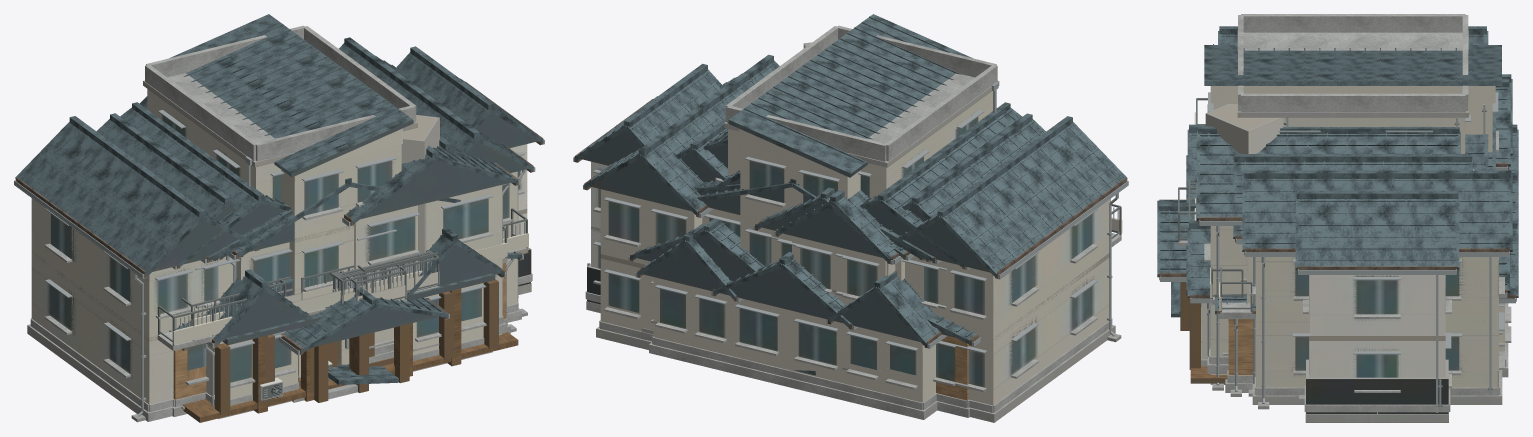
Rendered from building_00.glb.
3 views of the same model, side by side, from view 1: azimuth 30°, elevation 25°; view 2: azimuth 150°, elevation 25°; view 3: azimuth 270°, elevation 25° (orthographic). The views are drawn at different scales.
Visible parts, largest first — view 1: building_017_normal_Roofing, building_017_lod1_Cladding, building_004_normal_Roofing, building_017_lod2_Cladding, building_018_normal_Structure, building_007_lod1_Cladding, building_007_normal_Roofing, building_004_lod1_Cladding, building_004_lod2_Cladding, building_016_normal_Roofing, building_014_normal_Roofing, building_015_lod1_Timber (+36 smaller); view 2: building_017_normal_Roofing, building_004_normal_Roofing, building_017_lod2_Cladding, building_017_lod1_Cladding, building_018_normal_Structure, building_017_normal_Cladding, building_005_lod1_Cladding, building_005_normal_Cladding, building_005_normal_Structure, building_005_lod2_Cladding, building_005_normal_Roofing, building_016_normal_Roofing (+26 smaller); view 3: building_014_lod1_Cladding, building_017_normal_Roofing, building_018_normal_Structure, building_014_normal_Roofing, building_017_lod1_Cladding, building_004_normal_Roofing, building_014_lod2_Cladding, building_007_normal_Roofing, building_016_normal_Roofing, building_018_lod1_Cladding, building_005_normal_Roofing, building_004_normal_Cladding (+25 smaller).
Boxes of the visible parts, box(x1,y1,x2,y2) form: building_017_normal_Roofing: box(15, 37, 533, 277); building_017_lod1_Cladding: box(27, 141, 528, 421); building_004_normal_Roofing: box(169, 14, 413, 177); building_017_lod2_Cladding: box(31, 184, 509, 404); building_018_normal_Structure: box(143, 25, 417, 162); building_007_lod1_Cladding: box(230, 160, 510, 357); building_007_normal_Roofing: box(120, 102, 518, 268); building_004_lod1_Cladding: box(292, 120, 412, 376); building_004_lod2_Cladding: box(294, 145, 401, 364); building_016_normal_Roofing: box(96, 113, 479, 219); building_014_normal_Roofing: box(207, 46, 543, 262); building_015_lod1_Timber: box(174, 281, 510, 422); building_017_normal_Roofing: box(584, 54, 1127, 278); building_004_normal_Roofing: box(728, 14, 972, 177); building_017_lod2_Cladding: box(608, 201, 1109, 404); building_017_lod1_Cladding: box(590, 158, 1115, 422); building_018_normal_Structure: box(724, 25, 998, 167); building_017_normal_Cladding: box(600, 189, 1122, 405); building_005_lod1_Cladding: box(642, 245, 937, 419); building_005_normal_Cladding: box(653, 277, 922, 402); building_005_normal_Structure: box(649, 322, 937, 419); building_005_lod2_Cladding: box(660, 289, 935, 401); building_005_normal_Roofing: box(637, 223, 941, 347); building_016_normal_Roofing: box(676, 113, 1045, 219); building_014_lod1_Cladding: box(1305, 275, 1448, 422); building_017_normal_Roofing: box(1218, 26, 1512, 255); building_018_normal_Structure: box(1238, 14, 1468, 112); building_014_normal_Roofing: box(1295, 190, 1459, 272); building_017_lod1_Cladding: box(1252, 257, 1502, 404); building_004_normal_Roofing: box(1204, 44, 1501, 85); building_014_lod2_Cladding: box(1309, 275, 1445, 377); building_007_normal_Roofing: box(1197, 126, 1460, 223); building_016_normal_Roofing: box(1233, 42, 1472, 242); building_018_lod1_Cladding: box(1206, 31, 1468, 154); building_005_normal_Roofing: box(1187, 124, 1518, 301); building_004_normal_Cladding: box(1210, 86, 1495, 152).
Bounding box in the file's own units: 17.27 × 9.44 × 11.9.
57 materials, 56 textured.
